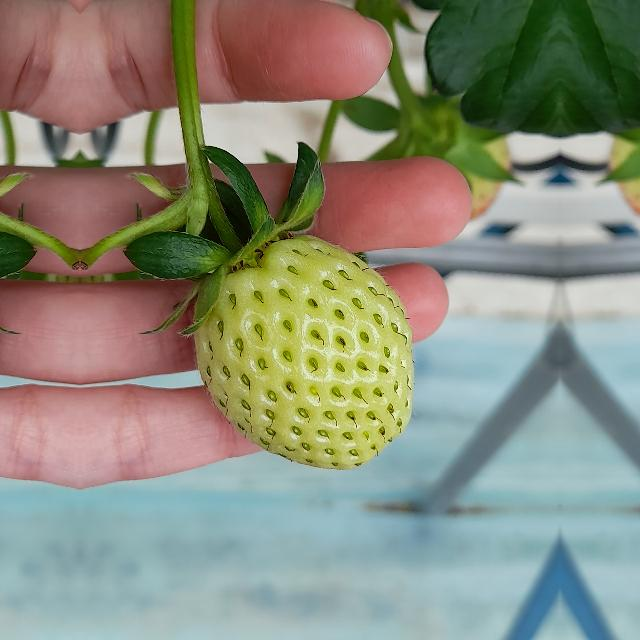Health_25: (194, 235, 413, 470)
